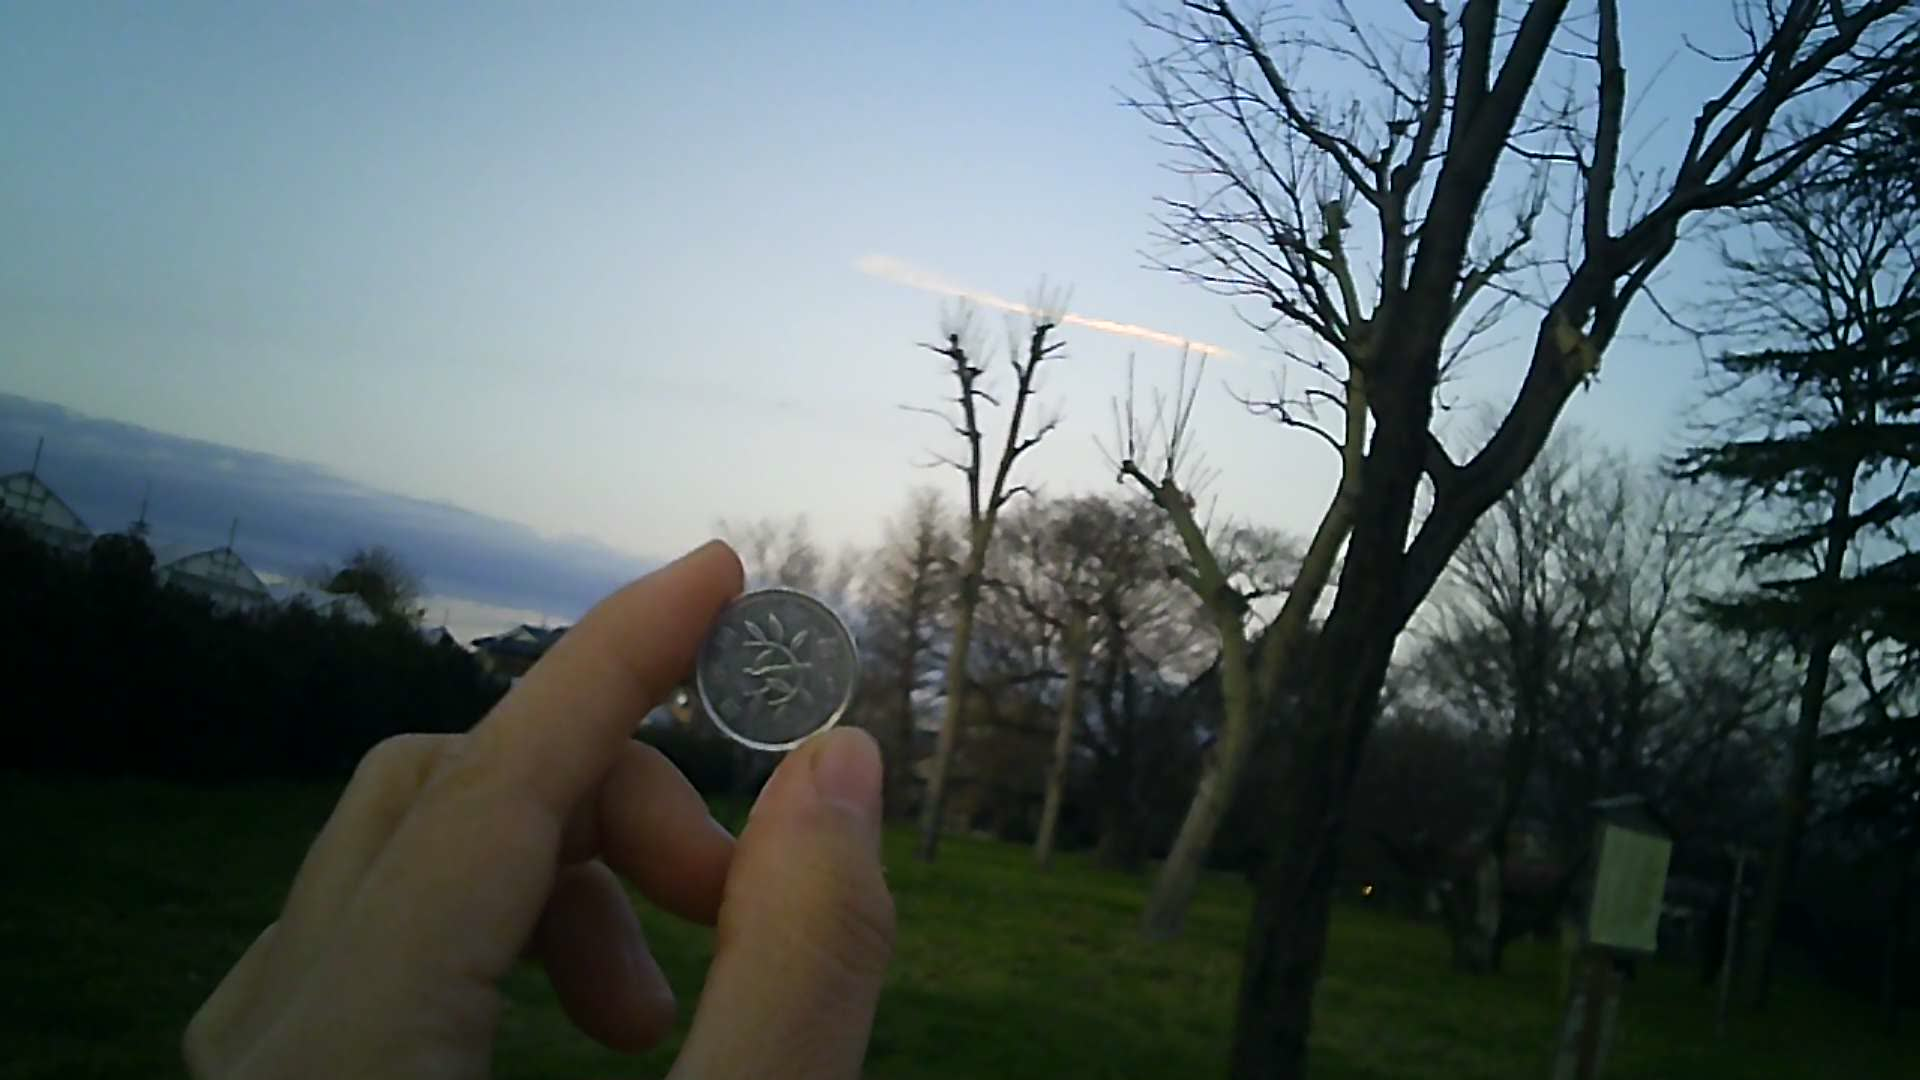1 Yen: (690, 580, 864, 748)
